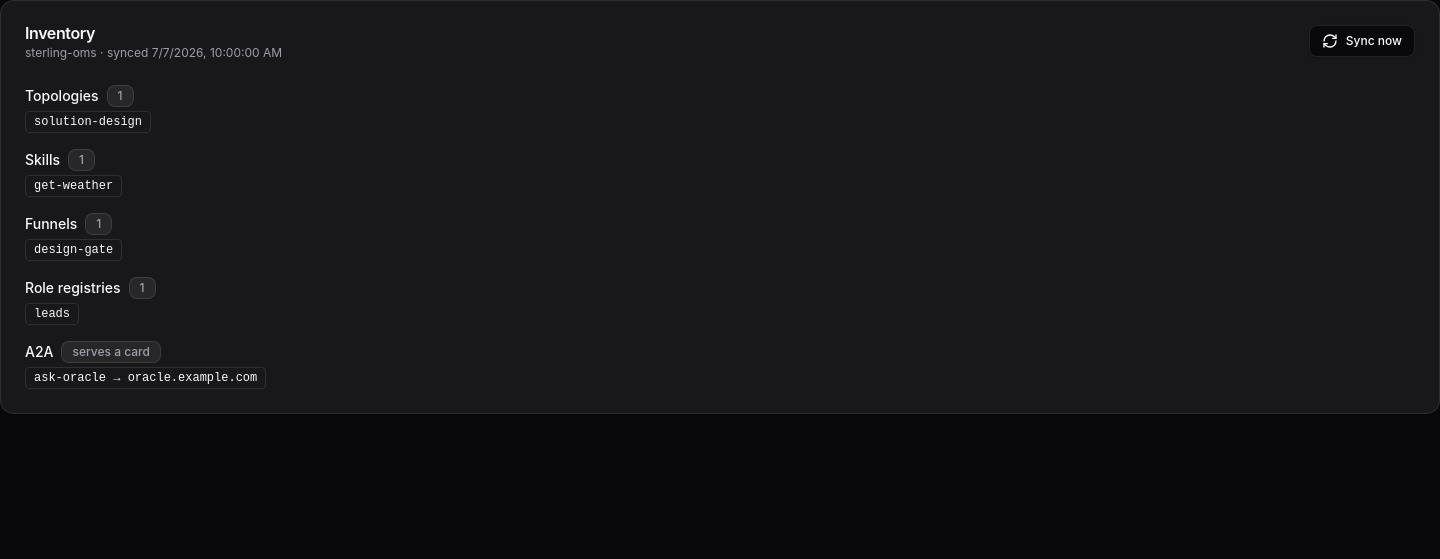
Test case: InventoryCard › shows an artifact's content when clicked
The width and height of the screenshot is (1440, 559).
Click the button "solution-design": point(88, 122) [25, 111, 151, 133]
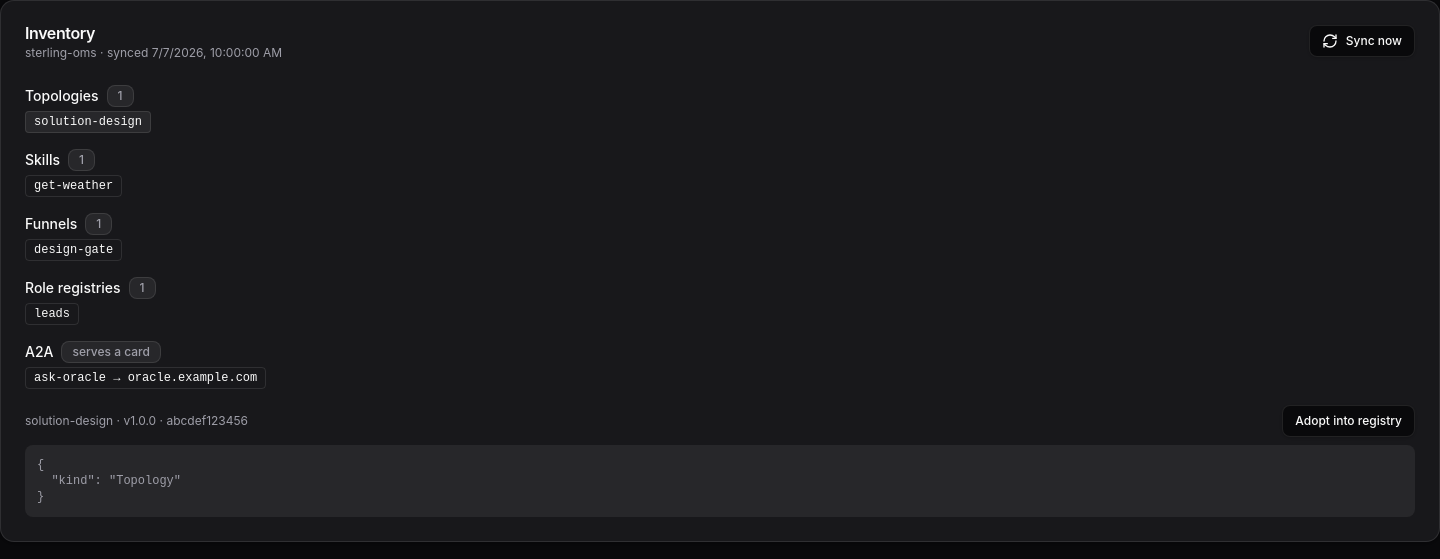
Expected: the text "solution-design · v1.0.0 · abcdef123456" is shown, [25, 413, 248, 429]
Expected: the text "{ \"kind\": \"Topology\" }" is shown, [25, 445, 1415, 517]
